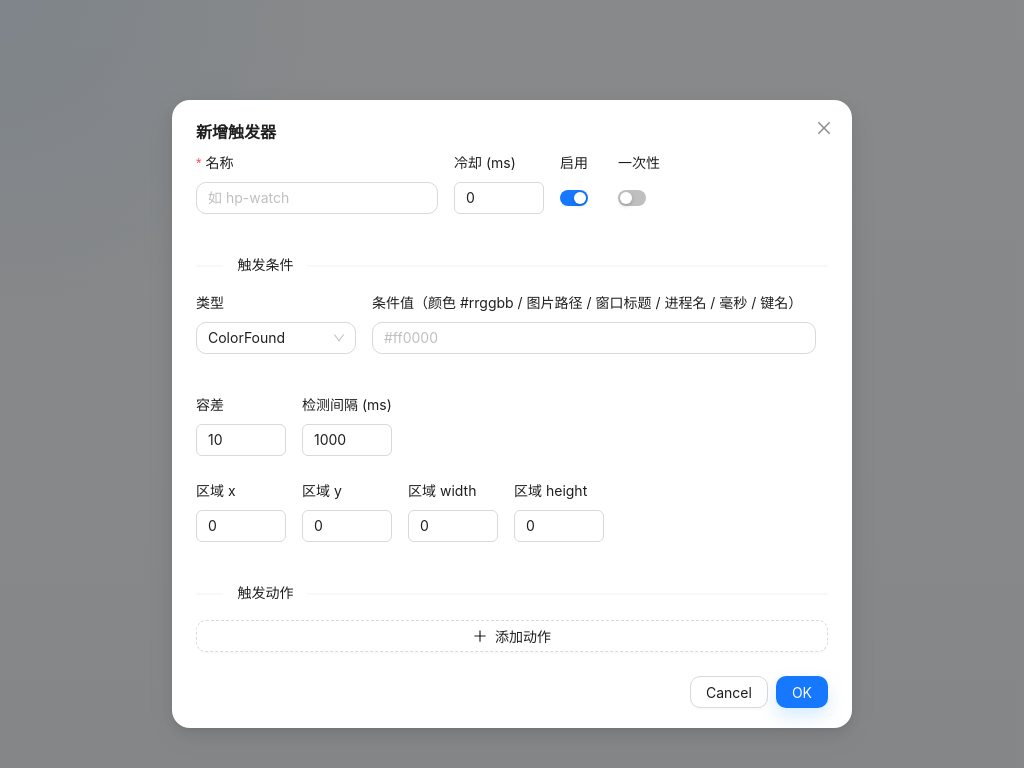
TriggerFormModal 组件 › 名称必填：校验失败不提交也不关闭
This screenshot has width=1024, height=768.
Click the button "OK".
click(802, 692)  # box [776,676,828,708]
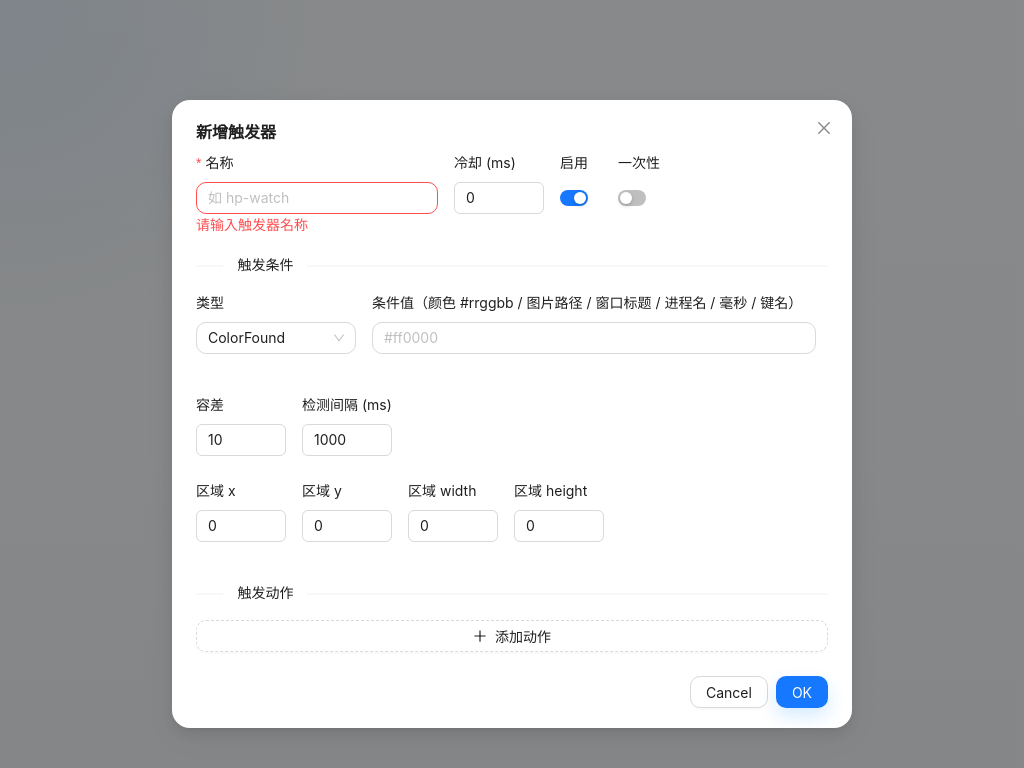
Expected: the text "请输入触发器名称" is shown, [196,216,308,233]
